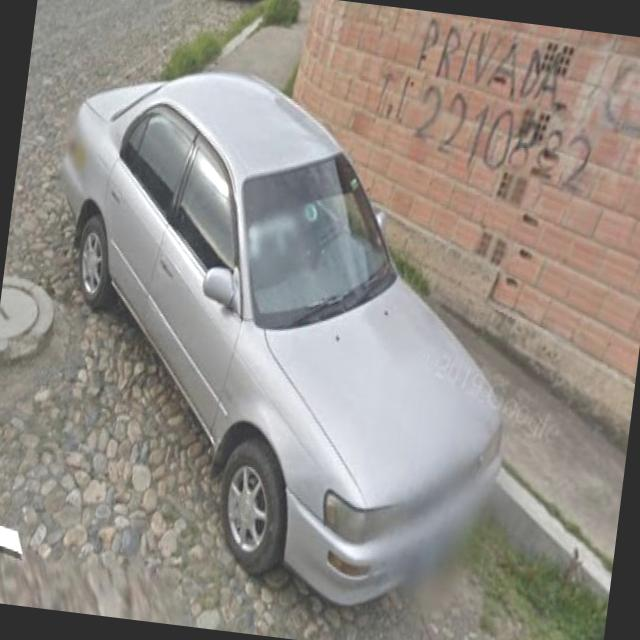car: (0, 57, 545, 640)
